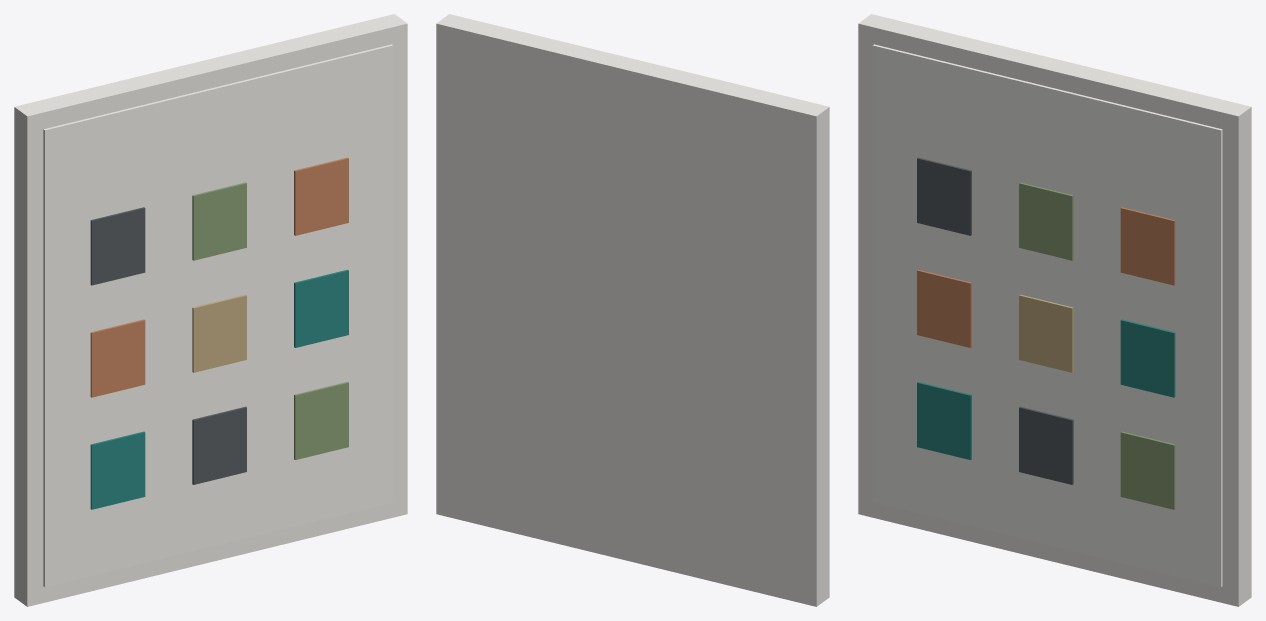
The model's file is rios_gallery_art.glb.
3 views of the same model, side by side, from view 1: azimuth 30°, elevation 25°; view 2: azimuth 150°, elevation 25°; view 3: azimuth 330°, elevation 25° (orthographic).
Parts seen in each view (by area): view 1: root; view 2: root; view 3: root.
Part boxes in pixels (x1,y1,x2,y2): root: [14, 14, 407, 606]; root: [436, 14, 829, 606]; root: [858, 14, 1251, 606].
Size of the model in its own units: 0.4328 by 0.5334 by 0.0314.
